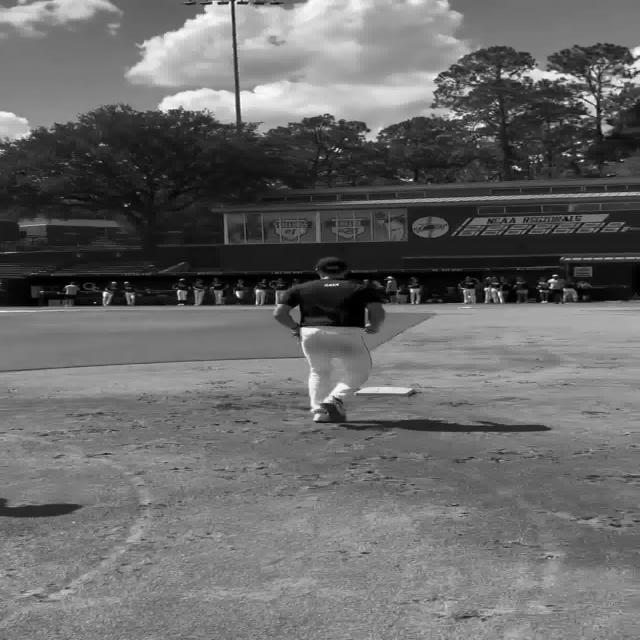base: (356, 386, 416, 396)
shoe: (313, 396, 347, 422)
